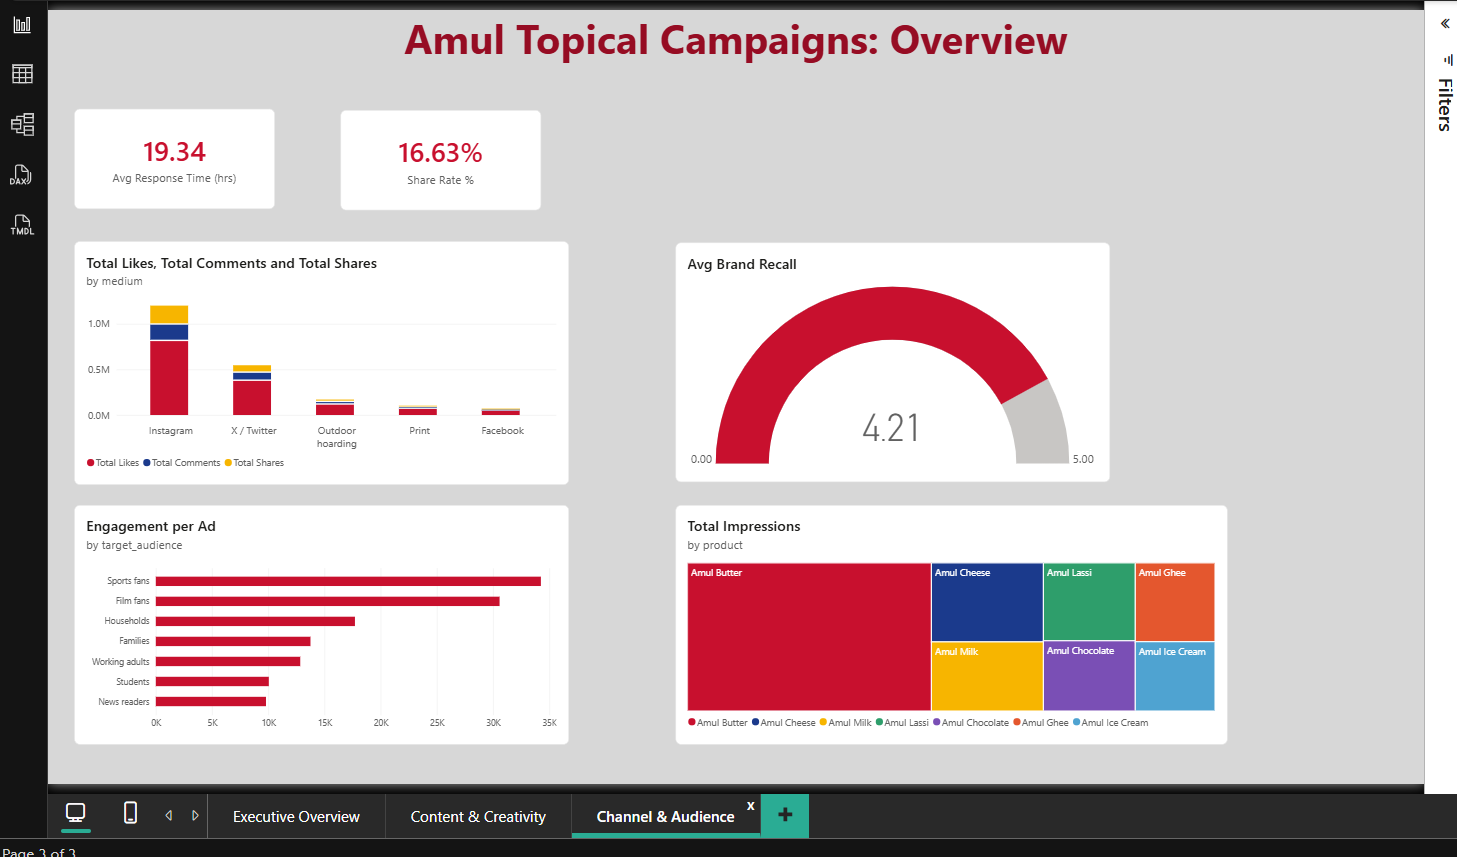

Layout of this report page (visuals, bound fields, positions):
{"tool":"powerbi","page":{"name":"Channel & Audience","canvas":[1920,1080],"ordinal":2},"visuals":[{"type":"columnChart","fields":{"Category":["Amul_Ads.medium"],"Y":["Amul_Ads.Total Likes","Amul_Ads.Total Comments","Amul_Ads.Total Shares"]},"box":[36,322,690,340],"z":0},{"type":"clusteredBarChart","fields":{"Category":["Amul_Ads.target_audience"],"Y":["Amul_Ads.Engagement per Ad"]},"box":[36,690,690,334],"z":1},{"type":"treemap","fields":{"Group":["Amul_Ads.product"],"Values":["Amul_Ads.Total Impressions"]},"box":[876,690,770,334],"z":2},{"type":"gauge","fields":{"Y":["Amul_Ads.Avg Brand Recall"]},"box":[876,324,606,334],"z":3},{"type":"card","fields":{"Values":["Amul_Ads.Share Rate %"]},"box":[408,140,280,140],"z":4},{"type":"card","fields":{"Values":["Amul_Ads.Avg Response Time (hrs)"]},"box":[36,138,280,140],"z":5},{"type":"textbox","box":[0,0,1920,116],"z":6}]}

Visuals, with their boxes on the page's 1920x1080 design canvas (x1, y1, x2, y2). These are canvas units, not pixel positions in the 1457x857 screenshot, which may show the page scaled, cropped or inside an application window:
columnChart - Amul_Ads.medium x Amul_Ads.Total Likes: 36/322/726/662
clusteredBarChart - Amul_Ads.target_audience x Amul_Ads.Engagement per Ad: 36/690/726/1024
treemap - Amul_Ads.product x Amul_Ads.Total Impressions: 876/690/1646/1024
gauge - Amul_Ads.Avg Brand Recall: 876/324/1482/658
card - Amul_Ads.Share Rate %: 408/140/688/280
card - Amul_Ads.Avg Response Time (hrs): 36/138/316/278
textbox: 0/0/1920/116
